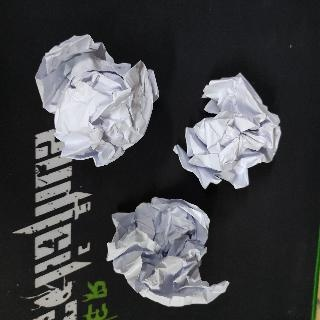8/可回收垃圾/纸: (34, 33, 161, 168), (105, 196, 229, 307), (172, 72, 281, 190)
